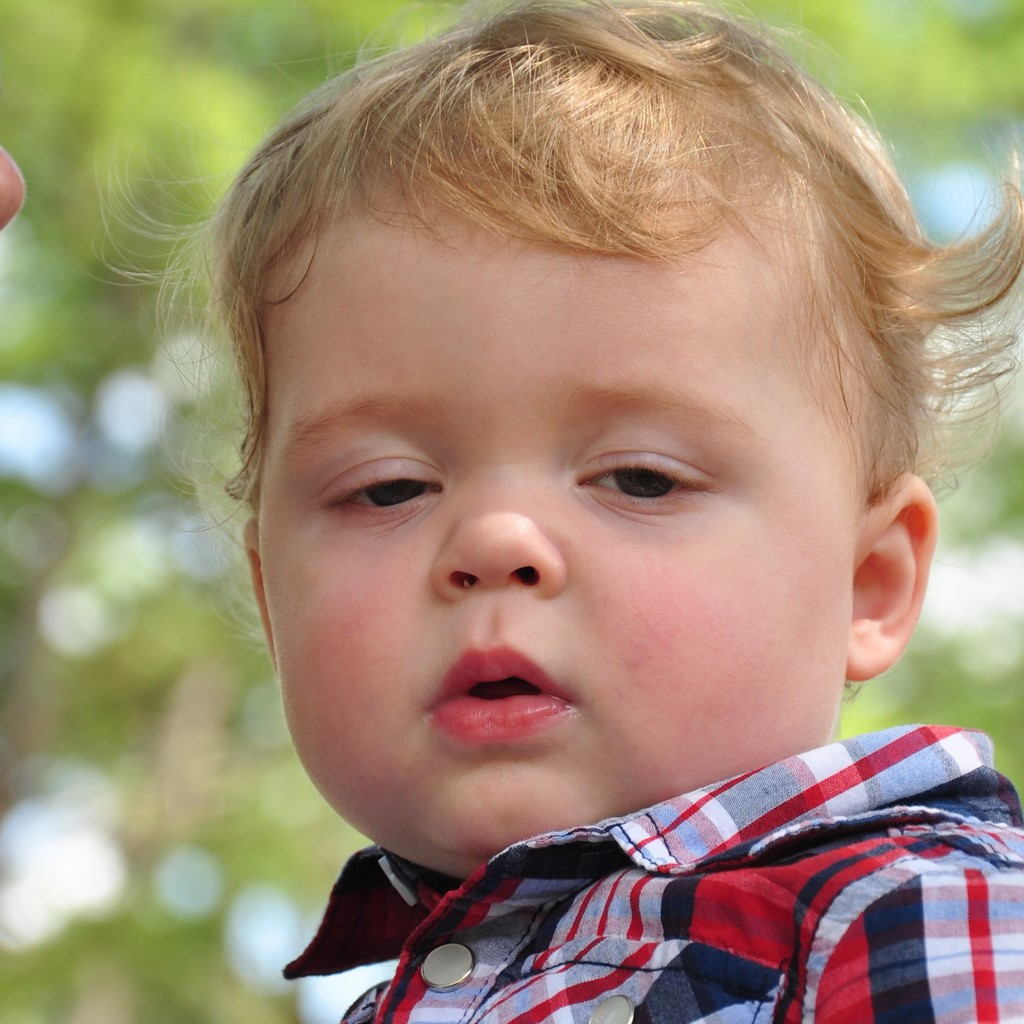sin_mascara: (248, 115, 885, 851)
